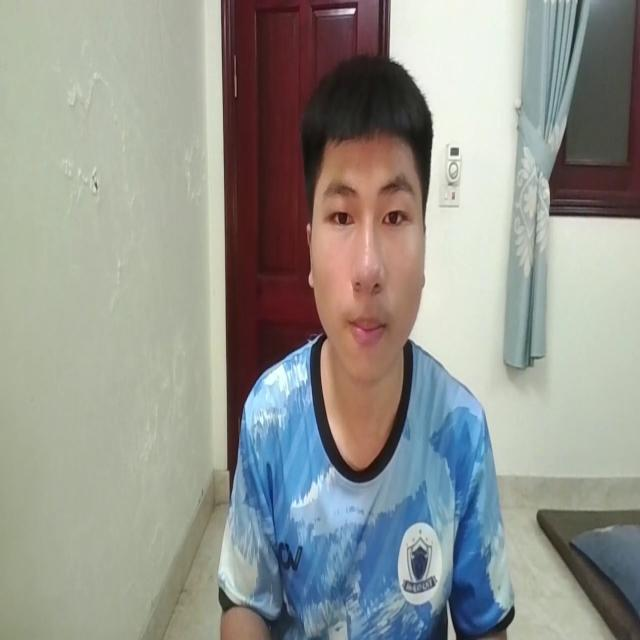student: (218, 50, 518, 640)
